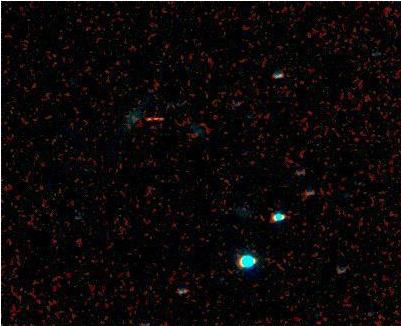star: (140, 101, 170, 131)
